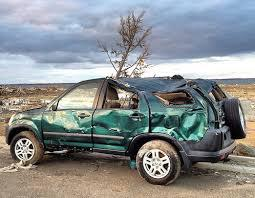RunningBoard-Dent: (41, 143, 132, 160)
doorouter-dent: (94, 87, 140, 153), (42, 113, 92, 144)
fender-dent: (14, 113, 39, 132)
quaterpanel-dent: (150, 104, 204, 140)
roof-dent: (87, 74, 198, 93)
